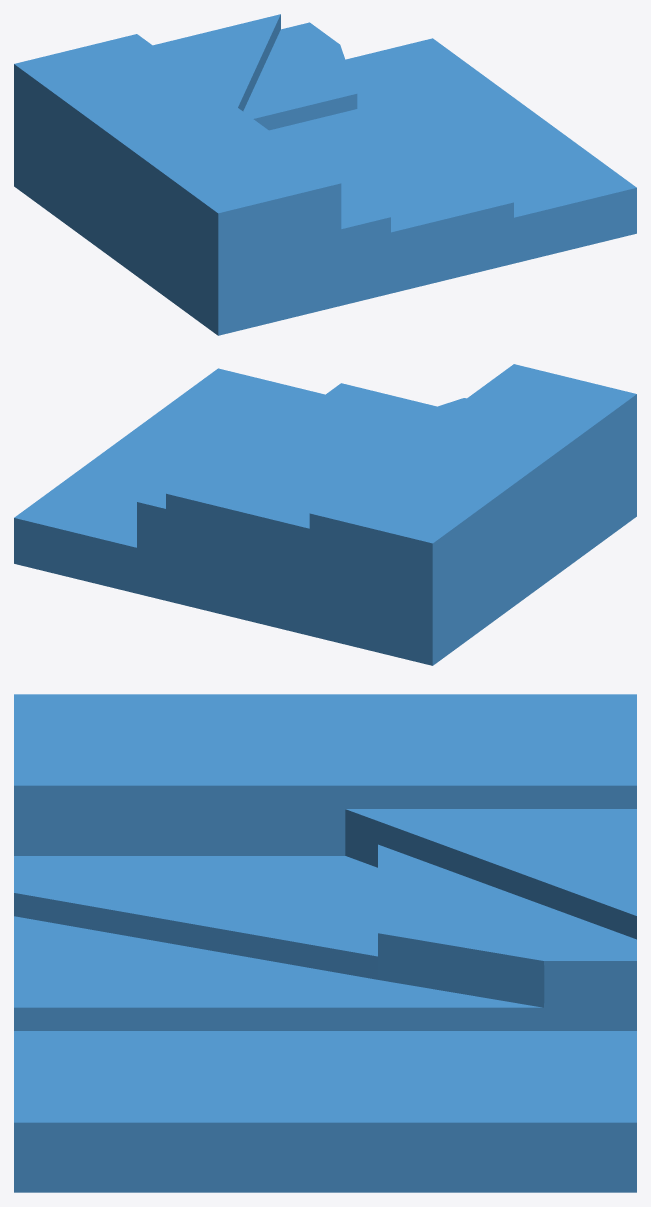
Rendered from Water_NewLVL2.fbx.
The picture shows the model from 3 angles, top to bottom: view 1: azimuth 30°, elevation 25°; view 2: azimuth 150°, elevation 25°; view 3: azimuth 270°, elevation 25°; orthographic projection. The views are drawn at different scales.
Visible parts, largest first — view 1: Cube.006; view 2: Cube.006; view 3: Cube.006.
Boxes of the visible parts, box(x1,y1,x2,y2) form: Cube.006: box(14, 14, 636, 335); Cube.006: box(14, 364, 636, 665); Cube.006: box(14, 694, 636, 1192).
Bounding box in the file's own units: 14317 × 4000 × 12088.
